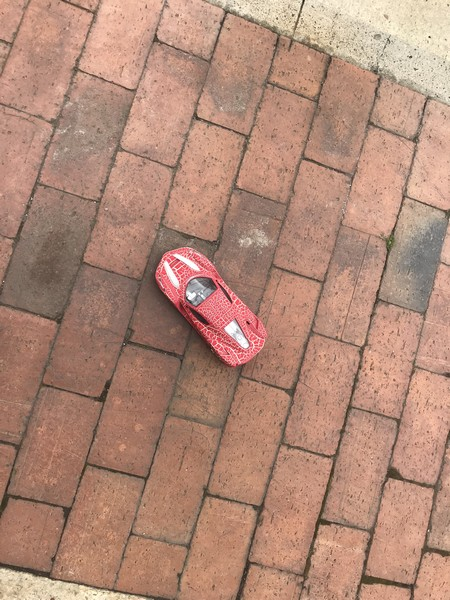RC: (152, 245, 271, 370)
